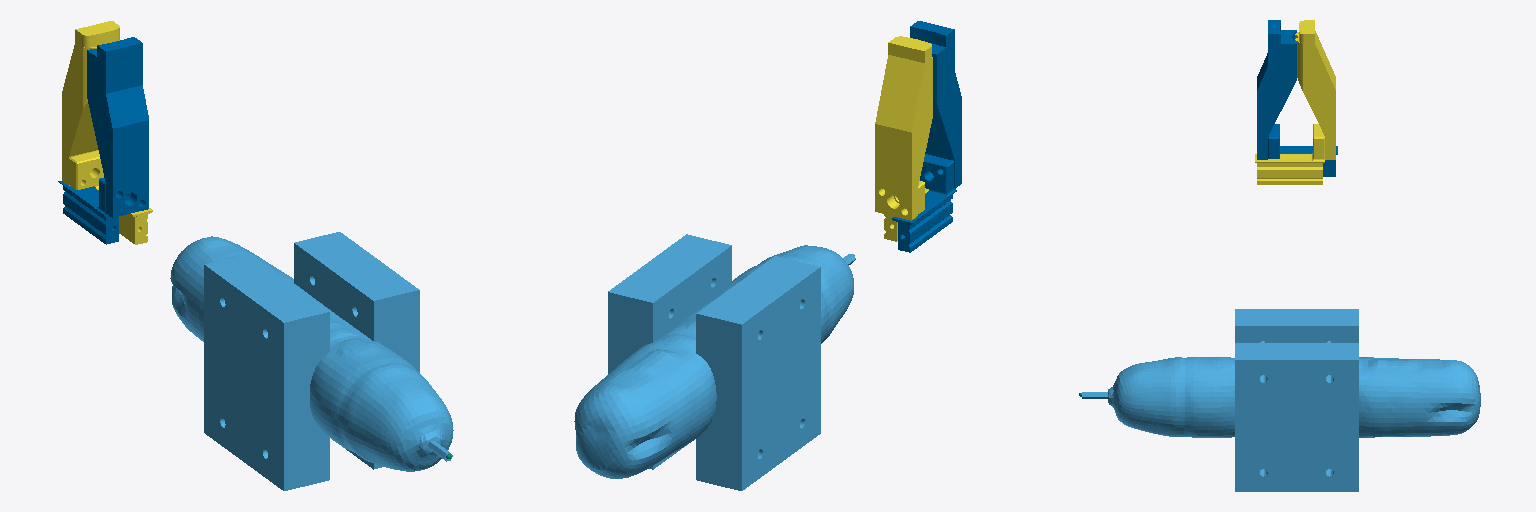
robot.urdf — endeffector:
<?xml version="1.0" ?>
<robot name="endeffector">

<link name="base">
    <visual>
        <geometry>
				<mesh filename="endeffector_mesh/Gesamtaufbau.stl" scale="0.001 0.001 0.001"/>
        </geometry>
</visual>
</link>

<joint name="base_joint" type="fixed">
    <parent link="base"/>
    <child link="screwdriver"/>
    <origin rpy="0 0 0" xyz="0 0 0"/>
</joint>

<link name="screwdriver">
    <visual>
        <geometry>
                <mesh filename="endeffector_mesh/Schrauber.stl" scale="0.001 0.001 0.001"/>
        </geometry>
</visual>
</link>
<joint name="screwdriver_joint" type="fixed">
    <parent link="base"/>
    <child link="screw_tip"/>
    <origin rpy="0 0 0" xyz="0.089 -0.104 0.032"/>
</joint>

<link name="screw_tip">
<visual>
    <geometry>
     <sphere radius="0.001"/>
    </geometry>
</visual>
</link>

<joint name="left_jaw" type ="prismatic">
    <parent link="base"/>
    <child link="left_jaw_link"/>
    <axis xyz="0 1 0"/>
    <limit effort="1000" lower="0" upper="0.01" velocity="0.01"/>
</joint>

<link name="left_jaw_link">
    <visual>
        <geometry>
            <mesh filename="endeffector_mesh/Backe1.stl" scale="0.001 0.001 0.001"/>
        </geometry>
    </visual>
    <collision>
        <geometry>
            <mesh filename="endeffector_mesh/Backe1.stl" scale="0.001 0.001 0.001"/>
        </geometry>
    </collision>
</link>

<joint name="right_jaw" type ="prismatic">
    <parent link="base"/>
    <child link="right_jaw_link"/>
    <axis xyz="0 -1 0"/>
    <limit effort="1000" lower="0" upper="0.01" velocity="0.01"/>
</joint>

<link name="right_jaw_link">
    <visual>
        <geometry>
            <mesh filename="endeffector_mesh/Backe2.stl" scale="0.001 0.001 0.001"/>
        </geometry>
    </visual>
    <collision>
        <geometry>
            <mesh filename="endeffector_mesh/Backe2.stl" scale="0.001 0.001 0.001"/>
        </geometry>
    </collision>
</link>

<joint name="gripper_center" type="fixed">
    <parent link="base"/>
    <child link="gripper_center_link"/>
    <origin rpy="0 0 0" xyz="0.0 0.0 0.185"/>
</joint>

<link name="gripper_center_link">
<visual>
    <geometry>
     <sphere radius="0.0001"/>
    </geometry>
</visual>
</link>

</robot>

--- Facts derived from the render (not from the file) ---
The picture shows the robot from 3 angles, left to right: view 1: azimuth 30°, elevation 25°; view 2: azimuth 150°, elevation 25°; view 3: azimuth 270°, elevation 25°; orthographic projection.
Robot: endeffector — 6 links, 5 joints (2 prismatic, 3 fixed); root link base; default pose: every joint at zero.
Links seen in each view (by area): view 1: screwdriver, right_jaw_link, left_jaw_link; view 2: screwdriver, left_jaw_link, right_jaw_link; view 3: screwdriver, left_jaw_link, right_jaw_link.
Link boxes in pixels (x1,y1,x2,y2): screwdriver: [170, 232, 453, 490]; right_jaw_link: [58, 37, 148, 244]; left_jaw_link: [62, 21, 152, 244]; screwdriver: [574, 234, 855, 490]; left_jaw_link: [875, 36, 932, 241]; right_jaw_link: [892, 21, 961, 252]; screwdriver: [1082, 309, 1480, 491]; left_jaw_link: [1255, 20, 1335, 184]; right_jaw_link: [1257, 20, 1337, 176].
Bounding box of the posed robot: 0.1281 × 0.1943 × 0.192 m (x, y, z).
Meshes: 4 distinct files referenced, 3 mesh visuals loaded (3 binary STL); not drawn: 1 (reference not matched to a file when rendering).
